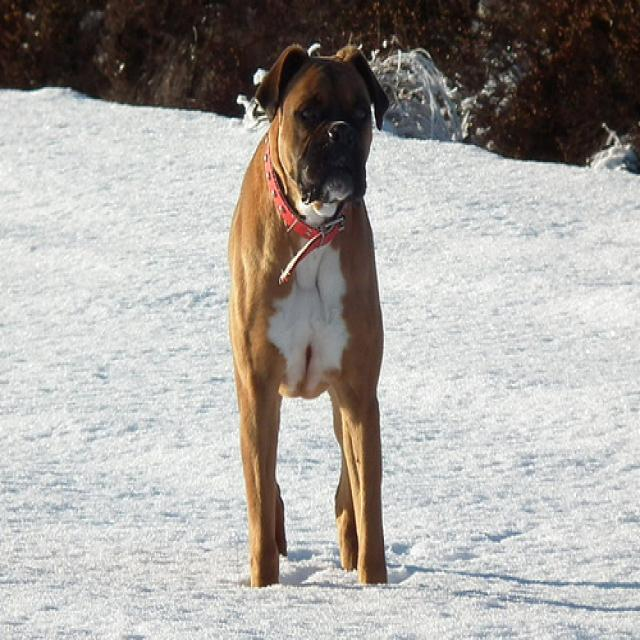dog-boxer: (218, 34, 398, 599)
